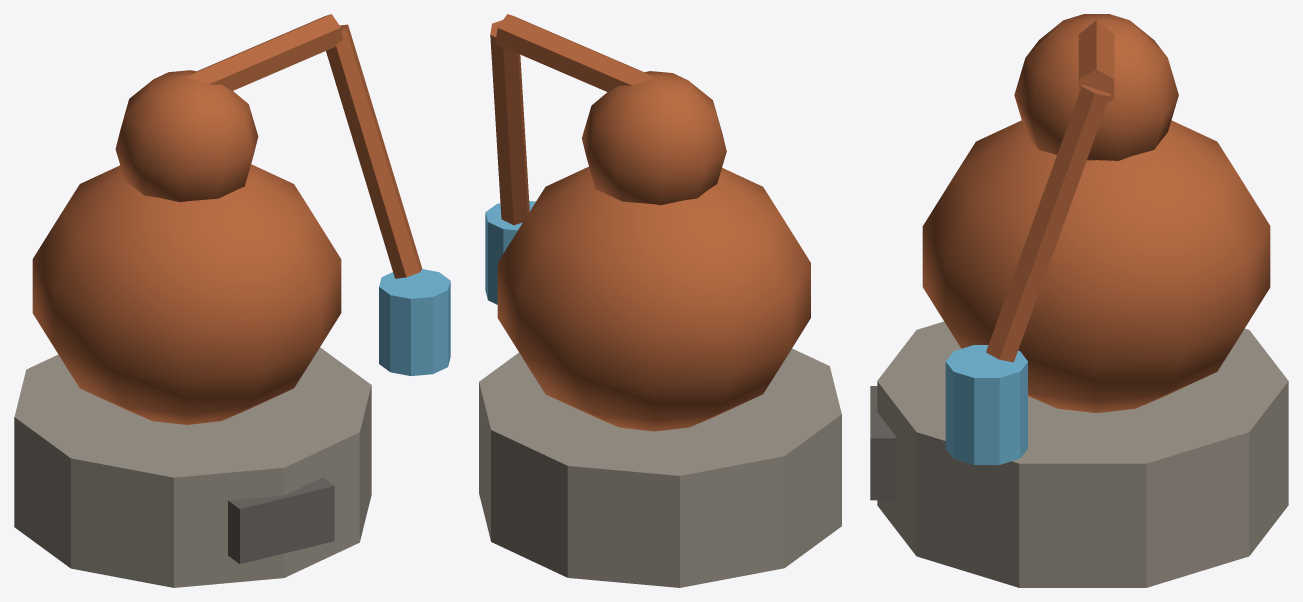
The model's file is PR_Station_Likor_T1.fbx.
The picture shows the model from 3 angles, left to right: view 1: azimuth 30°, elevation 25°; view 2: azimuth 150°, elevation 25°; view 3: azimuth 270°, elevation 25°; orthographic projection. The views are drawn at different scales.
Parts seen in each view (by area): view 1: PR_Station_Likor_T1; view 2: PR_Station_Likor_T1; view 3: PR_Station_Likor_T1.
Part boxes in pixels (bbox=[...]): PR_Station_Likor_T1: bbox=[14, 14, 450, 587]; PR_Station_Likor_T1: bbox=[479, 14, 841, 587]; PR_Station_Likor_T1: bbox=[870, 14, 1288, 587].
Bounding box in the file's own units: 0.6824 × 0.8295 × 0.61.
1 material, 1 textured.
